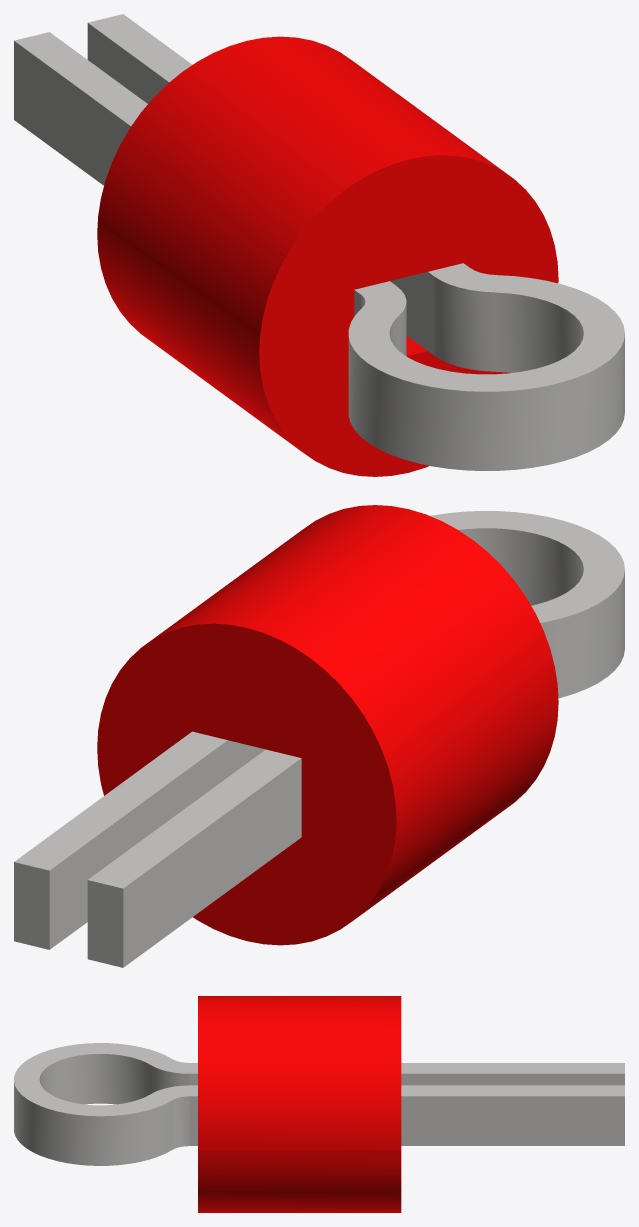
3 renders of one model, top to bottom at view 1: azimuth 30°, elevation 25°; view 2: azimuth 150°, elevation 25°; view 3: azimuth 270°, elevation 25°, orthographic. The views are drawn at different scales.
Parts seen in each view (by area): view 1: Keystone5005_red, KeystoneCompact_wire; view 2: Keystone5005_red, KeystoneCompact_wire; view 3: Keystone5005_red, KeystoneCompact_wire.
Part boxes in pixels (<box>): Keystone5005_red: <box>97,36,558,476</box>; KeystoneCompact_wire: <box>14,14,624,470</box>; Keystone5005_red: <box>97,505,558,945</box>; KeystoneCompact_wire: <box>14,511,624,967</box>; Keystone5005_red: <box>198,996,401,1212</box>; KeystoneCompact_wire: <box>14,1043,624,1165</box>.
Size of the model in its own units: 3.2 by 3.2 by 9.02.
